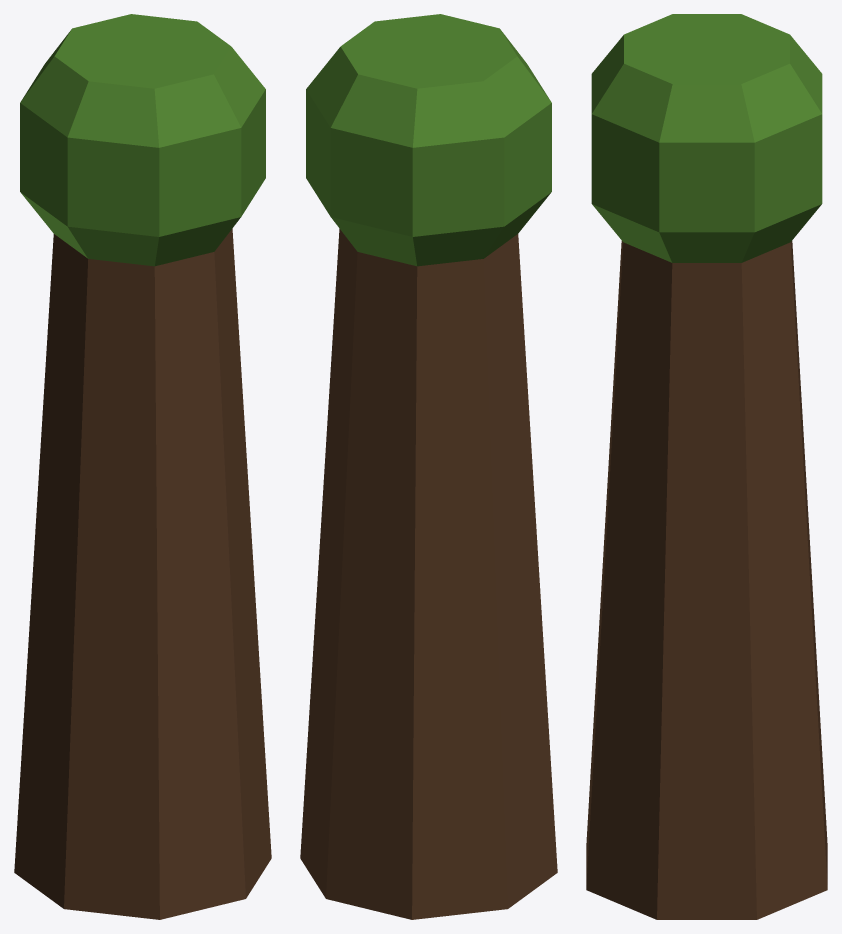
The model's file is elf_tower.glb.
The picture shows the model from 3 angles, left to right: view 1: azimuth 30°, elevation 25°; view 2: azimuth 150°, elevation 25°; view 3: azimuth 270°, elevation 25°; orthographic projection.
Parts seen in each view (by area): view 1: elf_tower; view 2: elf_tower; view 3: elf_tower.
Part boxes in pixels (left/top/right/bottom): elf_tower: left=14, top=14, right=271, bottom=919; elf_tower: left=300, top=14, right=557, bottom=919; elf_tower: left=586, top=14, right=827, bottom=919.
Size of the model in its own units: 0.9146 by 3.42 by 0.9146.
